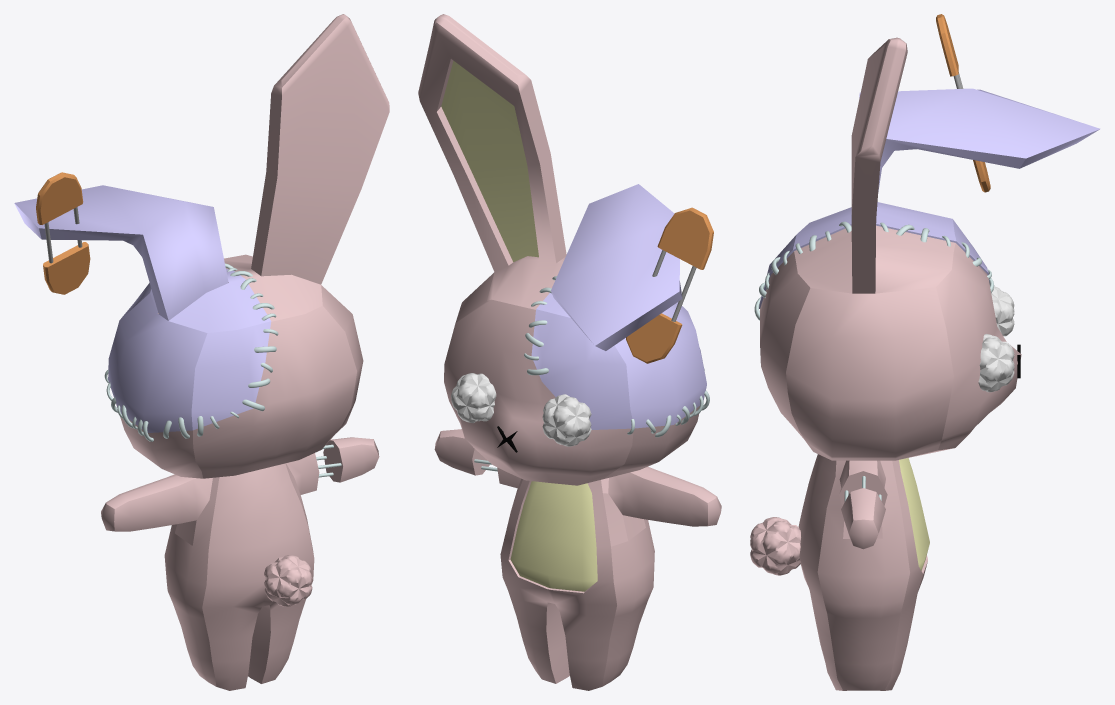
Rendered from Rabbit_toy.fbx.
3 views of the same model, side by side, from view 1: azimuth 30°, elevation 25°; view 2: azimuth 150°, elevation 25°; view 3: azimuth 270°, elevation 25° (orthographic). The views are drawn at different scales.
Visible parts, largest first — view 1: pCube1, pCube4, pPlatonic2; view 2: pCube1, pCube4, pPlatonic1; view 3: pCube1, pPlatonic1, pPlatonic2, pCube4.
Part boxes in pixels (<box>): pCube1: <box>14,14,389,690</box>; pCube4: <box>36,172,90,294</box>; pPlatonic2: <box>264,555,312,606</box>; pCube1: <box>418,14,721,690</box>; pCube4: <box>626,207,713,363</box>; pPlatonic1: <box>451,373,591,446</box>; pCube1: <box>759,37,1100,690</box>; pPlatonic1: <box>978,286,1014,392</box>; pPlatonic2: <box>750,517,800,575</box>; pCube4: <box>936,14,990,192</box>.
Size of the model in its own units: 2.15 by 4.06 by 1.83.
